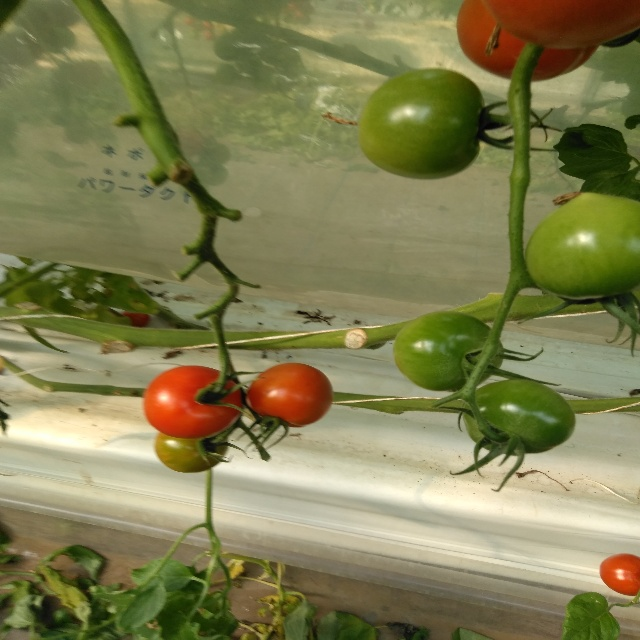l_fully_ripened: (457, 0, 603, 82), (483, 0, 640, 50), (143, 365, 244, 439), (246, 362, 333, 429), (598, 553, 639, 596)
l_green: (357, 68, 485, 180), (524, 193, 640, 299), (392, 311, 504, 392), (461, 378, 577, 455)
l_half_ripened: (154, 431, 228, 473)
